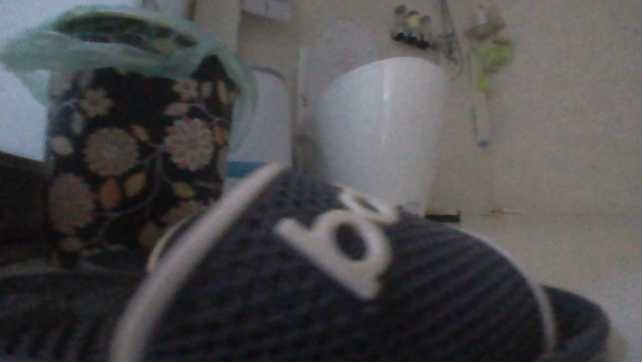slipper: (0, 162, 609, 361)
toilet: (294, 12, 447, 218)
trash_can: (3, 2, 256, 269)
